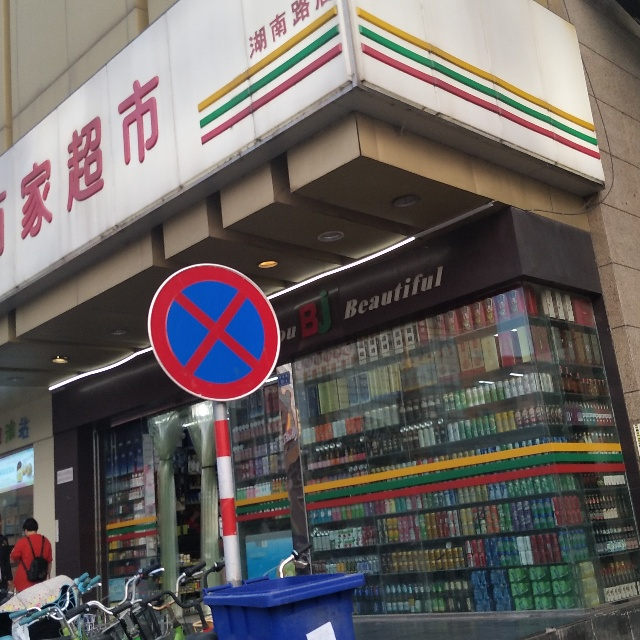stop: (156, 280, 273, 384)
